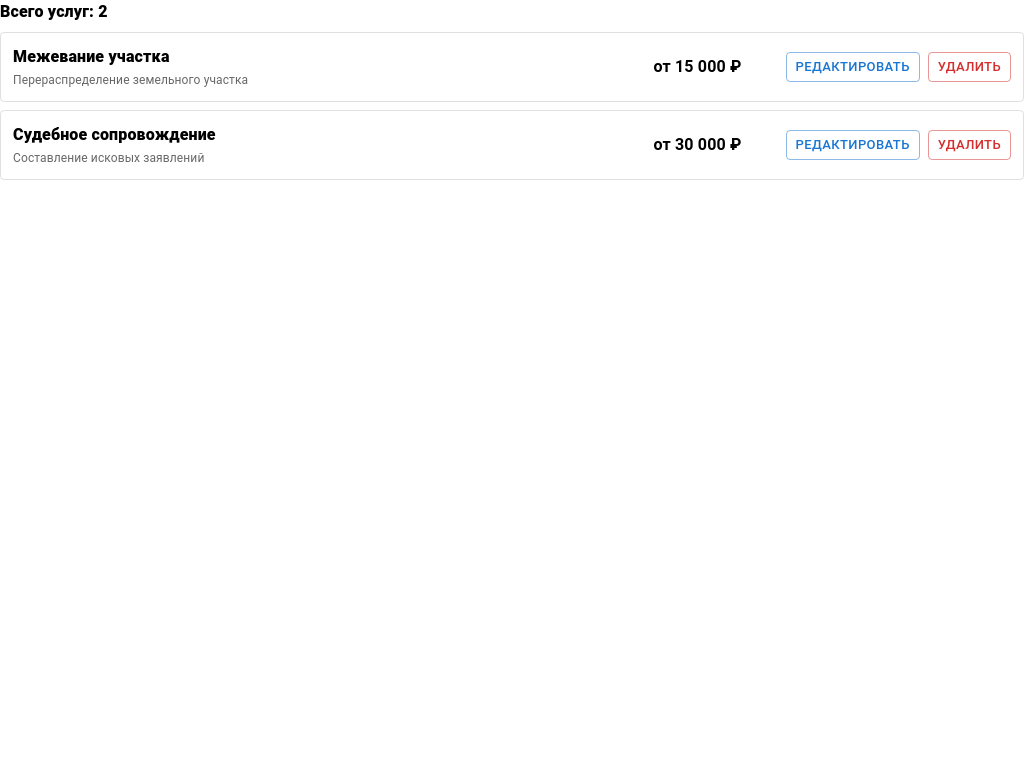
Test: ServicesAdminClient › edits service and sends PATCH payload
The width and height of the screenshot is (1024, 768).
Click the button "Редактировать" next to "от 15 000 ₽" at (853, 67), box x1=786 y1=52 x2=920 y2=82
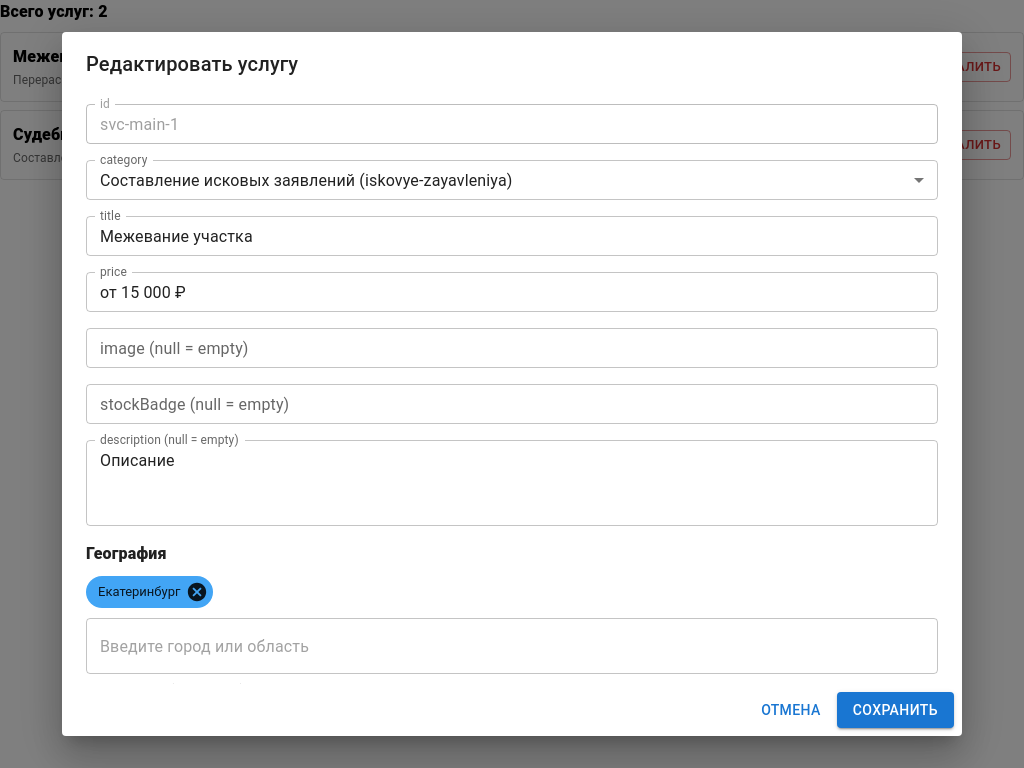
Replace the text in the field labelled "title" with "Обновленный title" at (512, 236), box x1=86 y1=216 x2=938 y2=256
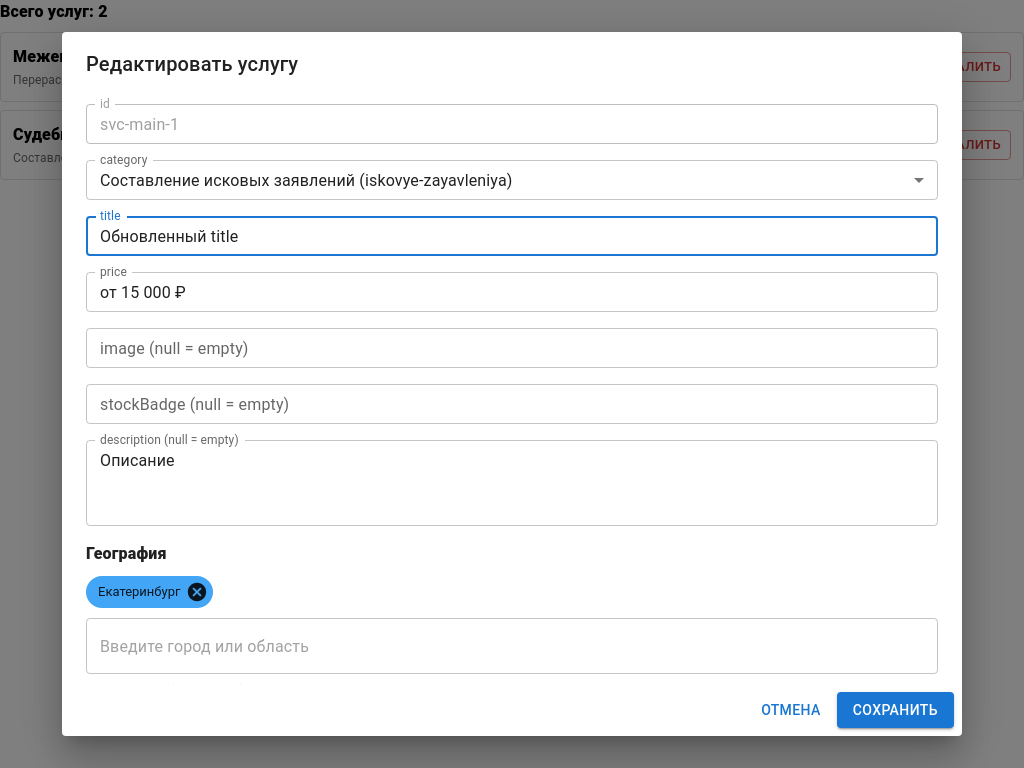
Click the button "Сохранить" at (895, 710), box x1=837 y1=692 x2=954 y2=728
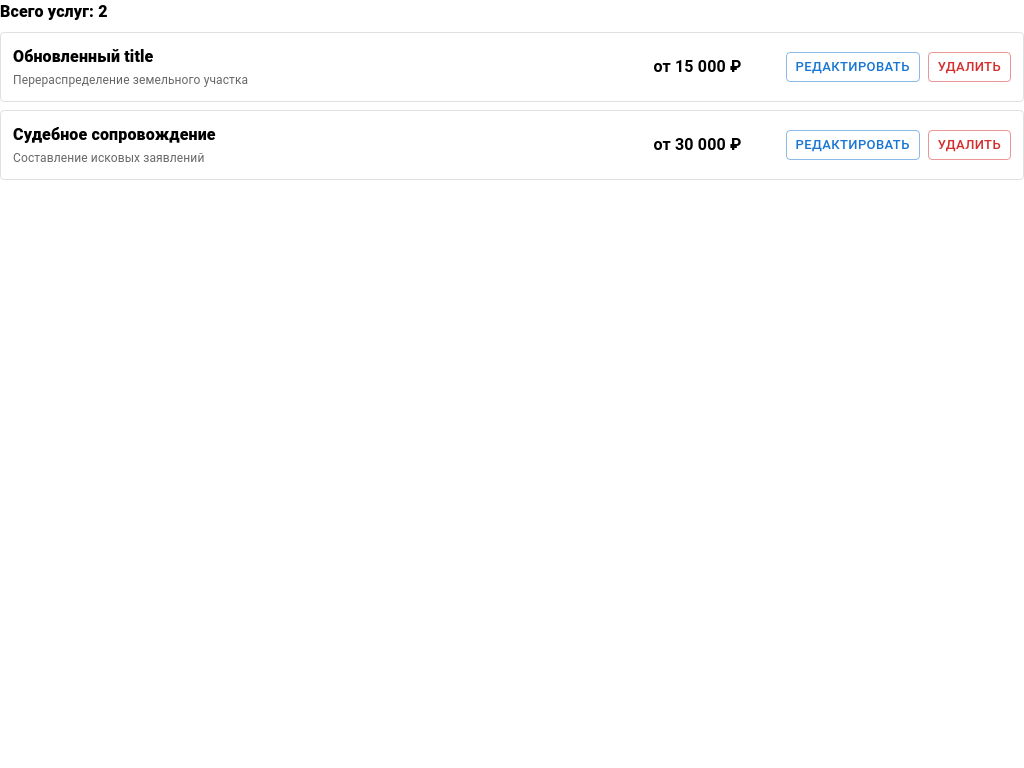
Expected: the text "Межевание участка" reads "Обновленный title", x1=13 y1=47 x2=154 y2=66
